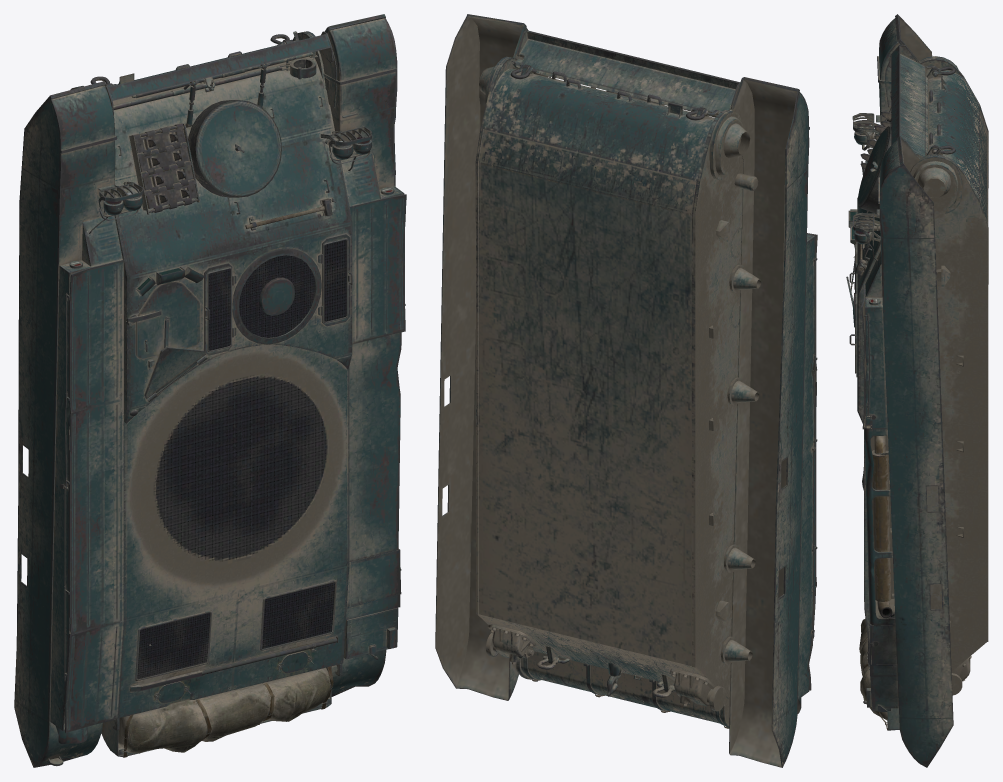
File: Hull.glb
3 views of the same model, side by side, from view 1: azimuth 30°, elevation 25°; view 2: azimuth 150°, elevation 25°; view 3: azimuth 270°, elevation 25° (orthographic). The views are drawn at different scales.
Visible parts, largest first — view 1: set_0_group_0; view 2: set_0_group_0; view 3: set_0_group_0.
Boxes of the visible parts, <box> form: set_0_group_0: <box>14,14,406,767</box>; set_0_group_0: <box>435,14,817,767</box>; set_0_group_0: <box>846,14,988,767</box>.
Size of the model in its own units: 2.64 by 4.92 by 1.04.
Materials: 1 (1 with a texture image).
